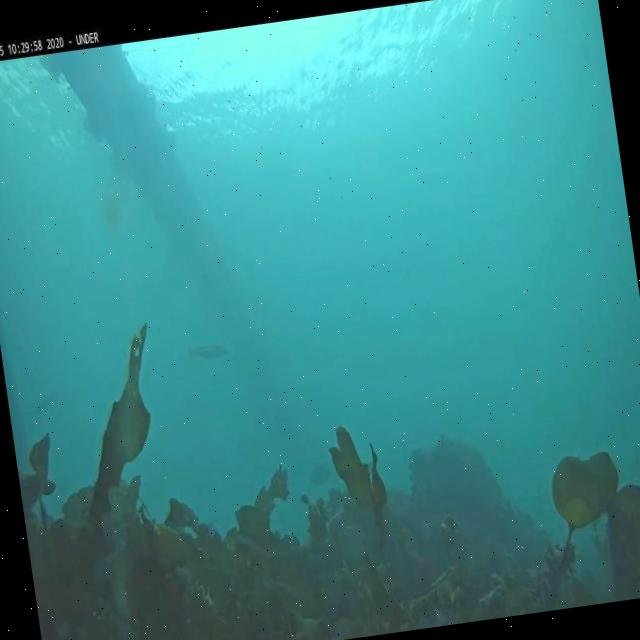fish: (182, 336, 232, 367), (25, 388, 64, 414), (308, 456, 336, 490)
